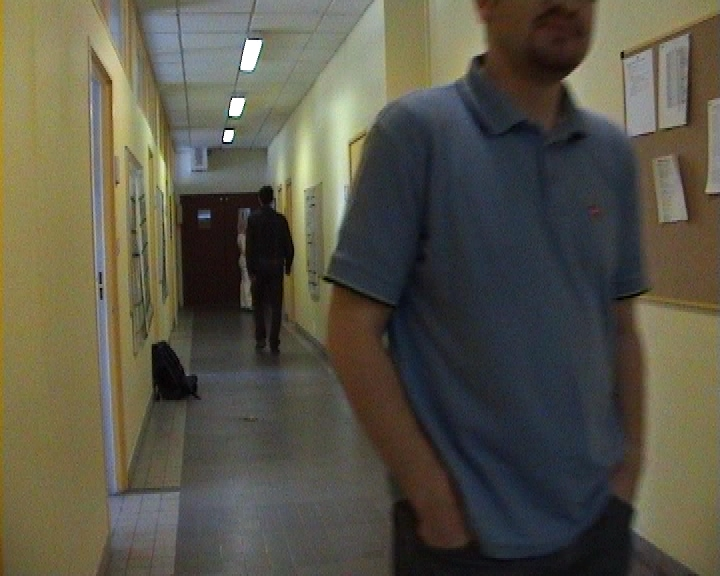leave bag unattended: (135, 315, 282, 488)
